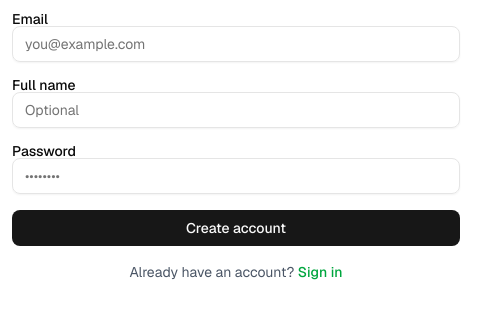
Test: RegistrationForm › shows field errors returned by the API
Type "duplicate@example.com" into the field labelled "Email". click: (236, 44)
box: top-left (12, 26), bottom-right (460, 62)
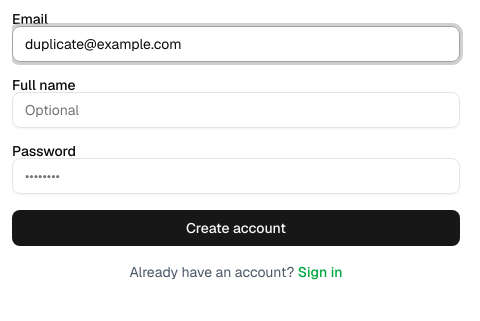
Type "Password123!" into the password field labelled "Password". click: (236, 176)
box: top-left (12, 158), bottom-right (460, 194)
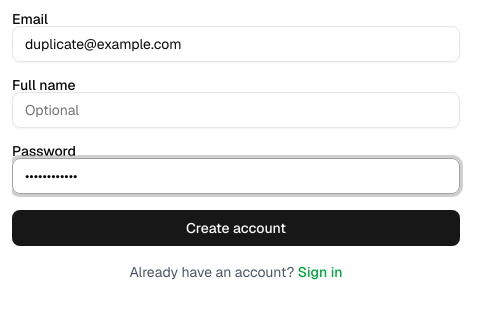
Click the button "Create account". click: (236, 228)
box: top-left (12, 210), bottom-right (460, 246)
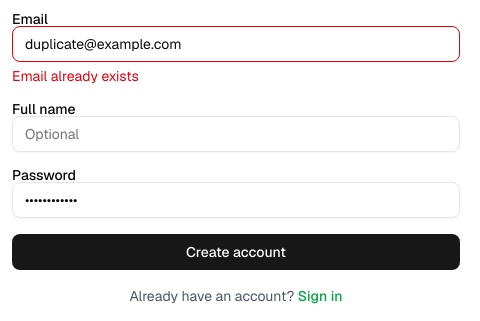
Now the text "Email already exists" is shown, box top-left (12, 67), bottom-right (139, 85)
